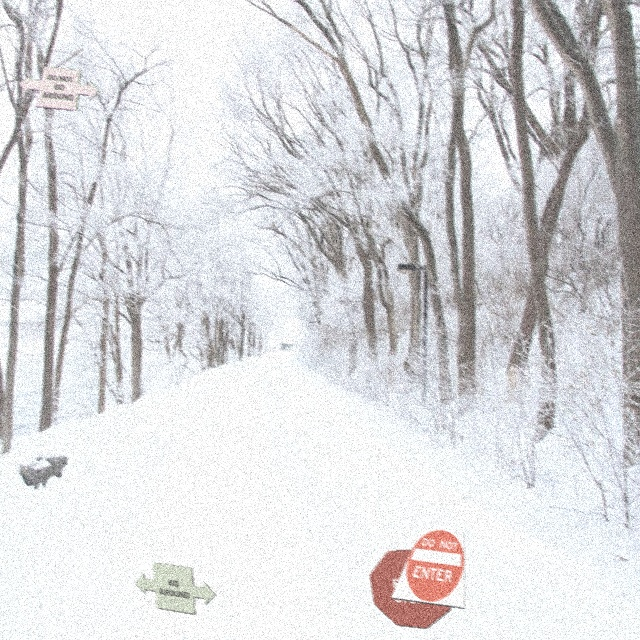DO_NOT_ENTER: (391, 526, 466, 608)
DO_NOT_GO_AROUND: (19, 65, 101, 110)
FAKE_STOP: (370, 548, 452, 628)
GO_AROUND: (135, 561, 217, 614)
